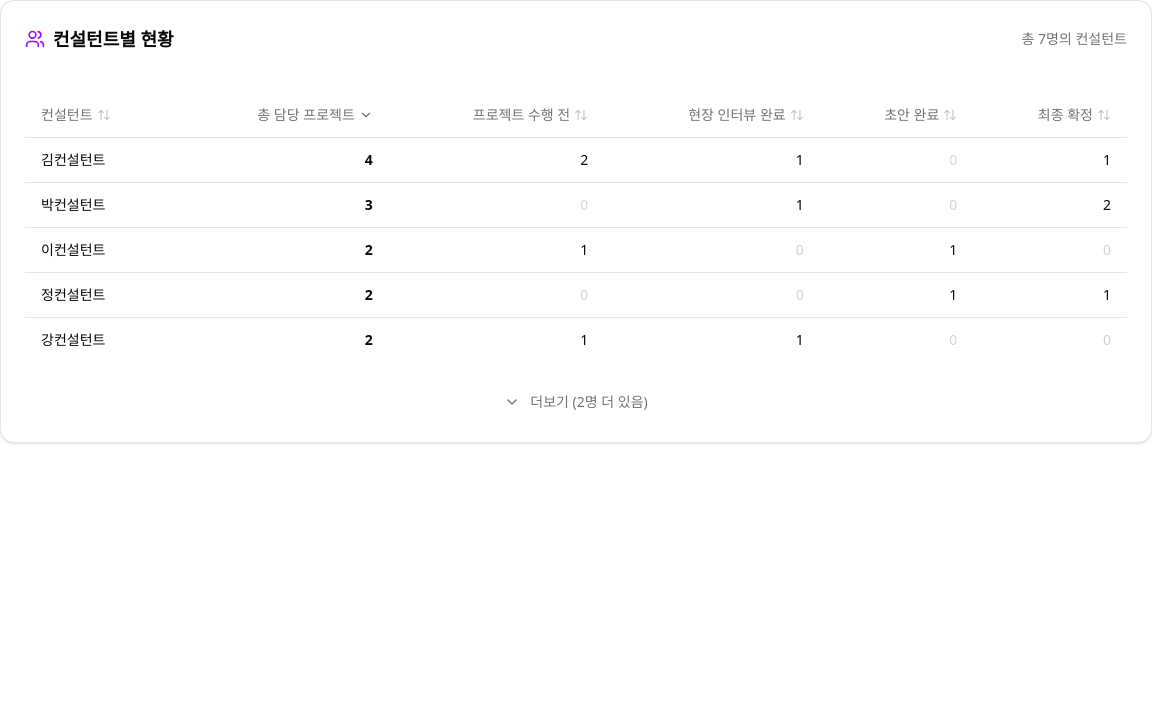
ConsultantProgressTable › 더보기 / 접기 › 접기 클릭 시 다시 5명만 표시된다
Click the button "더보기 (2명 더 있음)" at [576, 402], box [494,386,658,418]
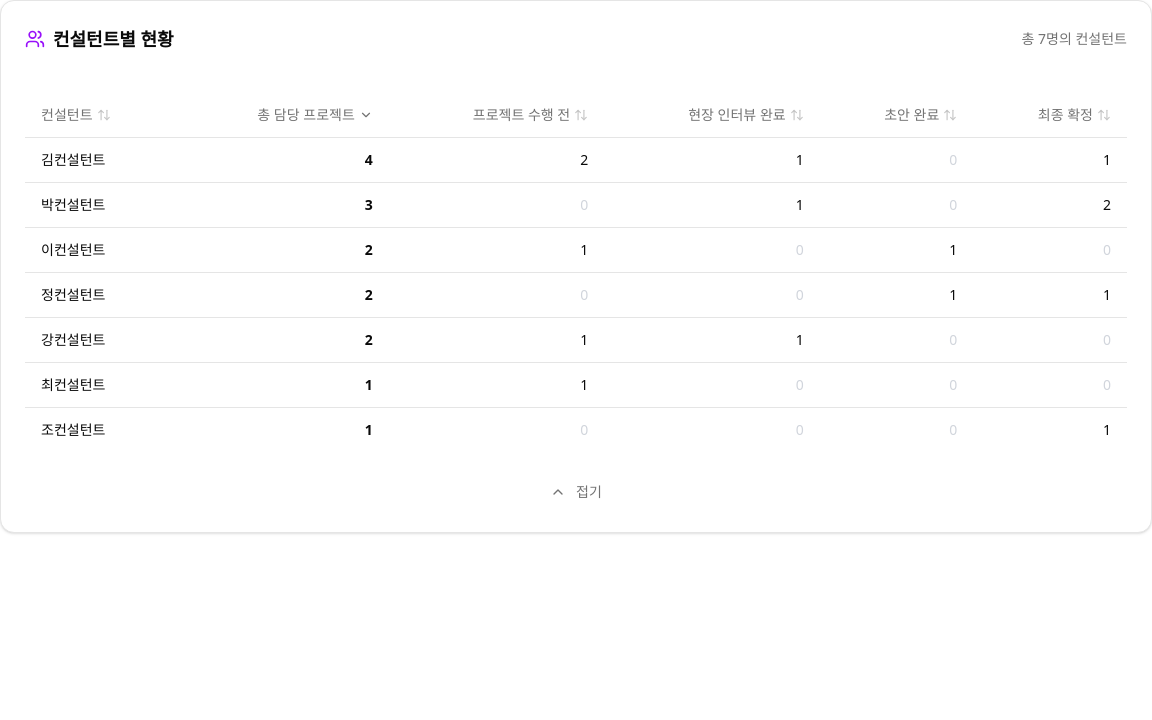
Click the button "접기" at [576, 492], box [540,476,612,508]
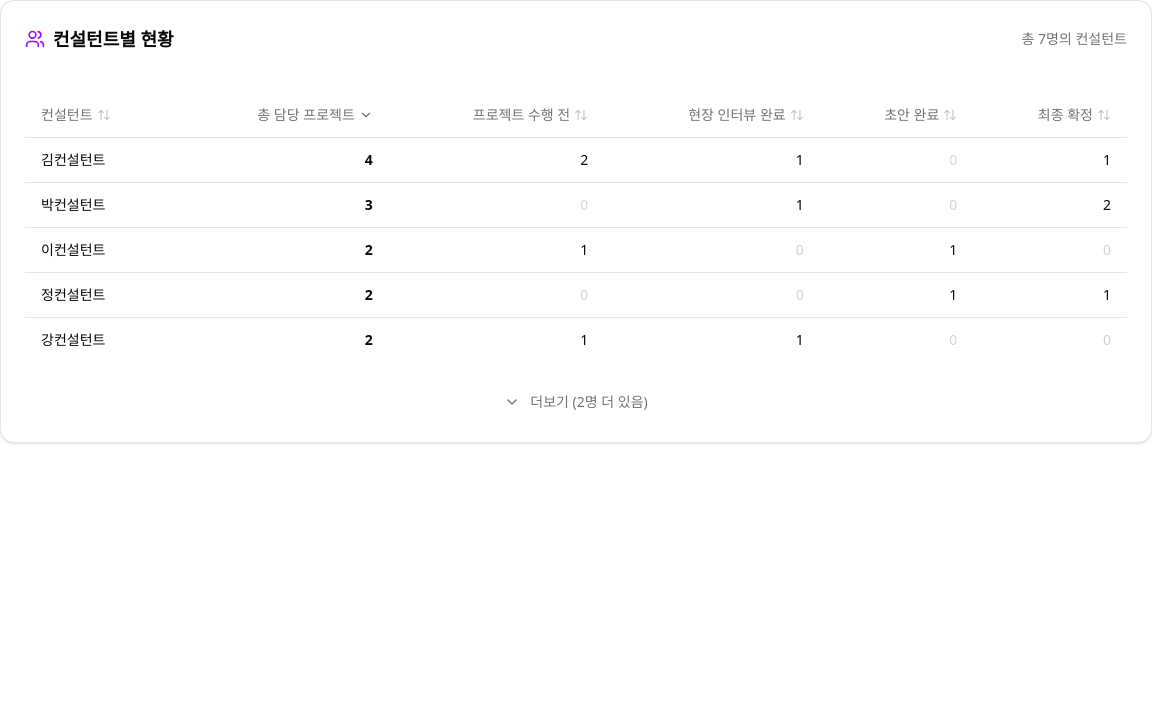
expect the number of rows is 6: met, box [25,93,1127,138]; [25,138,1127,182]; [25,182,1127,228]; [25,228,1127,272]; [25,272,1127,318]; [25,318,1127,362]
